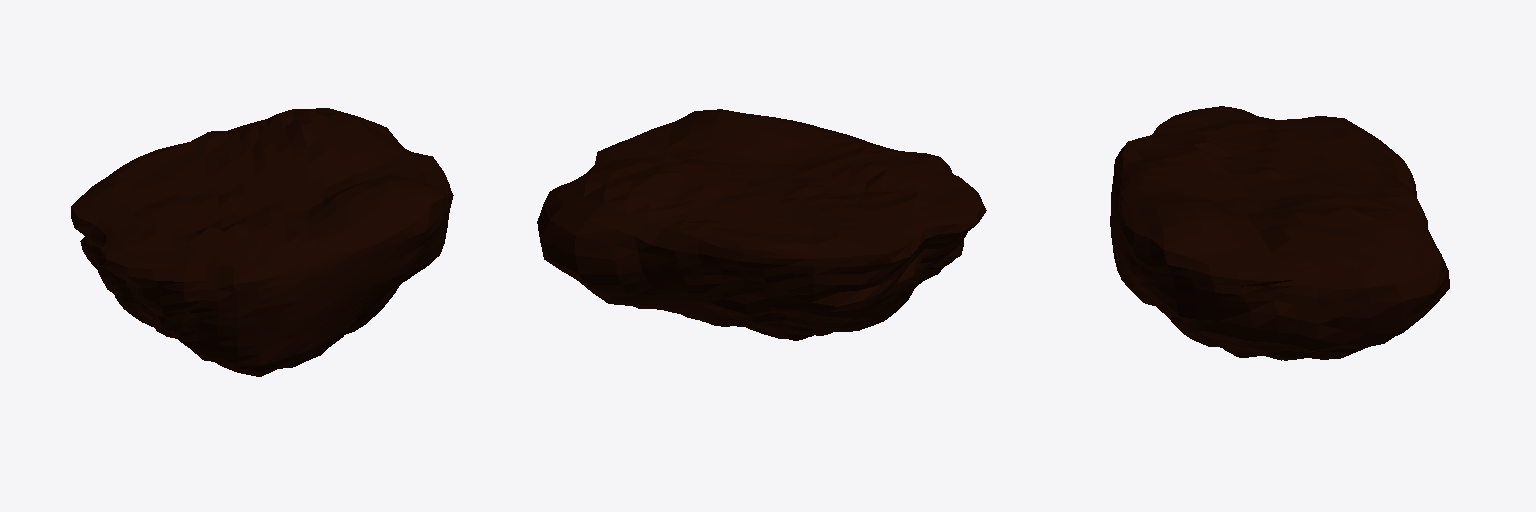
File: IslandMainBase.obj
3 views of the same model, side by side, from view 1: azimuth 30°, elevation 25°; view 2: azimuth 150°, elevation 25°; view 3: azimuth 270°, elevation 25° (orthographic).
Parts seen in each view (by area): view 1: IslandCloudFactoryBody1 IslandCloudFactory1 ArchipelagoCloudFact; view 2: IslandCloudFactoryBody1 IslandCloudFactory1 ArchipelagoCloudFact; view 3: IslandCloudFactoryBody1 IslandCloudFactory1 ArchipelagoCloudFact.
Part boxes in pixels (x1,y1,x2,y2): IslandCloudFactoryBody1 IslandCloudFactory1 ArchipelagoCloudFact: (71,108,453,376); IslandCloudFactoryBody1 IslandCloudFactory1 ArchipelagoCloudFact: (537,109,986,340); IslandCloudFactoryBody1 IslandCloudFactory1 ArchipelagoCloudFact: (1110,106,1449,360).
Size of the model in its own units: 94.37 by 43.25 by 76.39.